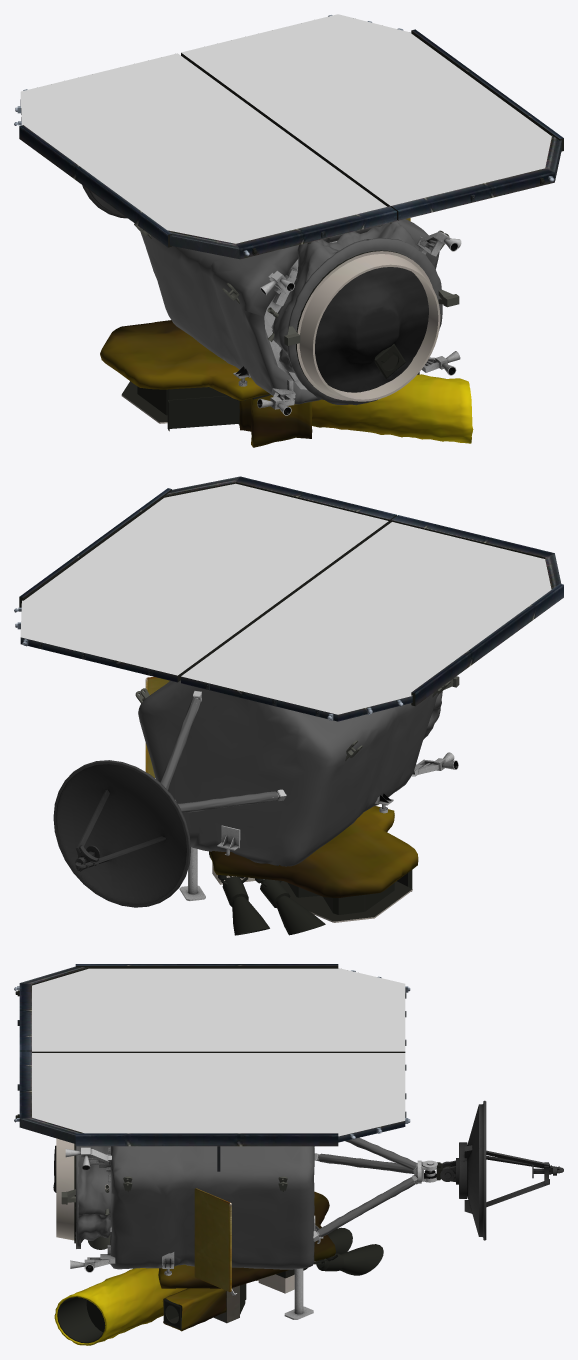
File: deep-impact-epoxi-3.glb
3 renders of one model, top to bottom at view 1: azimuth 30°, elevation 25°; view 2: azimuth 150°, elevation 25°; view 3: azimuth 270°, elevation 25°, orthographic. The views are drawn at different scales.
Visible parts, largest first — view 1: shiny_panels, foil_gold, tex_01, black_krinkle, foil_silver_I, tex_01_I, black_krinkle_I, hole_AO; view 2: shiny_panels, black_krinkle, tex_01, dish_AO, foil_gold, hole_AO; view 3: shiny_panels, black_krinkle, tex_01, foil_gold, dish_AO, hole_AO, black_krinkle_I, tex_01_I.
Boxes of the visible parts, left/top/right/bottom form: shiny_panels: left=20, top=14, right=551, bottom=243; foil_gold: left=100, top=320, right=473, bottom=447; tex_01: left=14, top=15, right=563, bottom=431; black_krinkle: left=140, top=219, right=439, bottom=404; foil_silver_I: left=315, top=267, right=428, bottom=392; tex_01_I: left=267, top=222, right=459, bottom=401; black_krinkle_I: left=272, top=221, right=442, bottom=405; hole_AO: left=233, top=231, right=461, bottom=415; shiny_panels: left=20, top=483, right=551, bottom=714; black_krinkle: left=138, top=680, right=438, bottom=866; tex_01: left=14, top=476, right=563, bottom=935; dish_AO: left=53, top=760, right=190, bottom=907; foil_gold: left=209, top=806, right=418, bottom=897; hole_AO: left=175, top=691, right=458, bottom=900; shiny_panels: left=32, top=968, right=405, bottom=1136; black_krinkle: left=110, top=1137, right=415, bottom=1269; tex_01: left=14, top=964, right=450, bottom=1343; foil_gold: left=54, top=1191, right=335, bottom=1345; dish_AO: left=440, top=1100, right=563, bottom=1240; hole_AO: left=65, top=1147, right=437, bottom=1319; black_krinkle_I: left=75, top=1146, right=111, bottom=1248; tex_01_I: left=56, top=1138, right=110, bottom=1249.
Size of the model in its own units: 2.88 by 1.99 by 3.91.
Materials: 9 (6 with a texture image).
